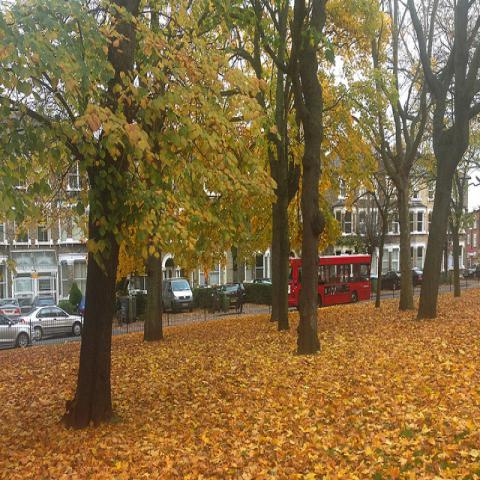bus: (317, 254, 371, 307), (288, 259, 302, 310)
car: (17, 305, 84, 340), (0, 312, 35, 347), (162, 280, 194, 314), (0, 297, 22, 319), (218, 284, 238, 306), (381, 271, 400, 292), (31, 296, 56, 310), (468, 262, 479, 280), (78, 295, 86, 317), (415, 265, 423, 286), (370, 272, 376, 278)
